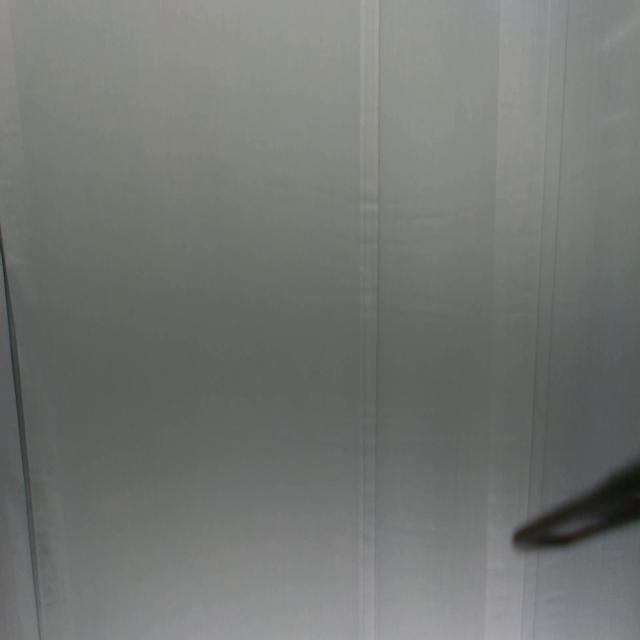crease: (526, 0, 572, 503), (0, 216, 44, 639), (357, 0, 383, 640)
